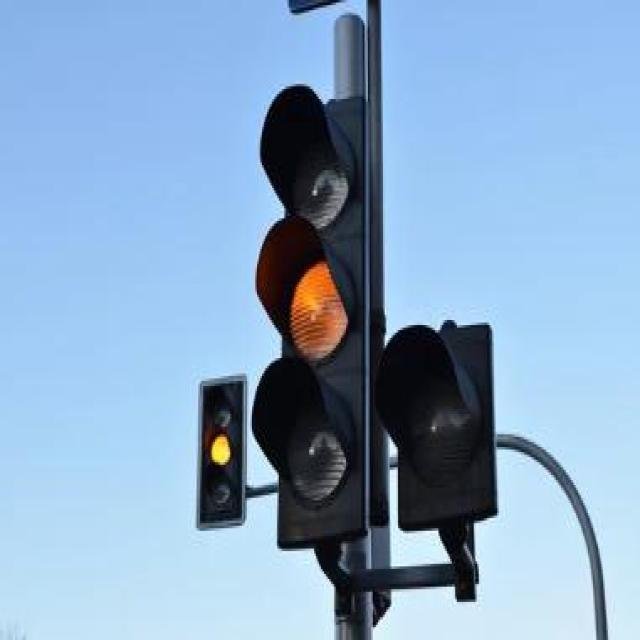yellow_light: (252, 85, 365, 548), (203, 387, 240, 518)
